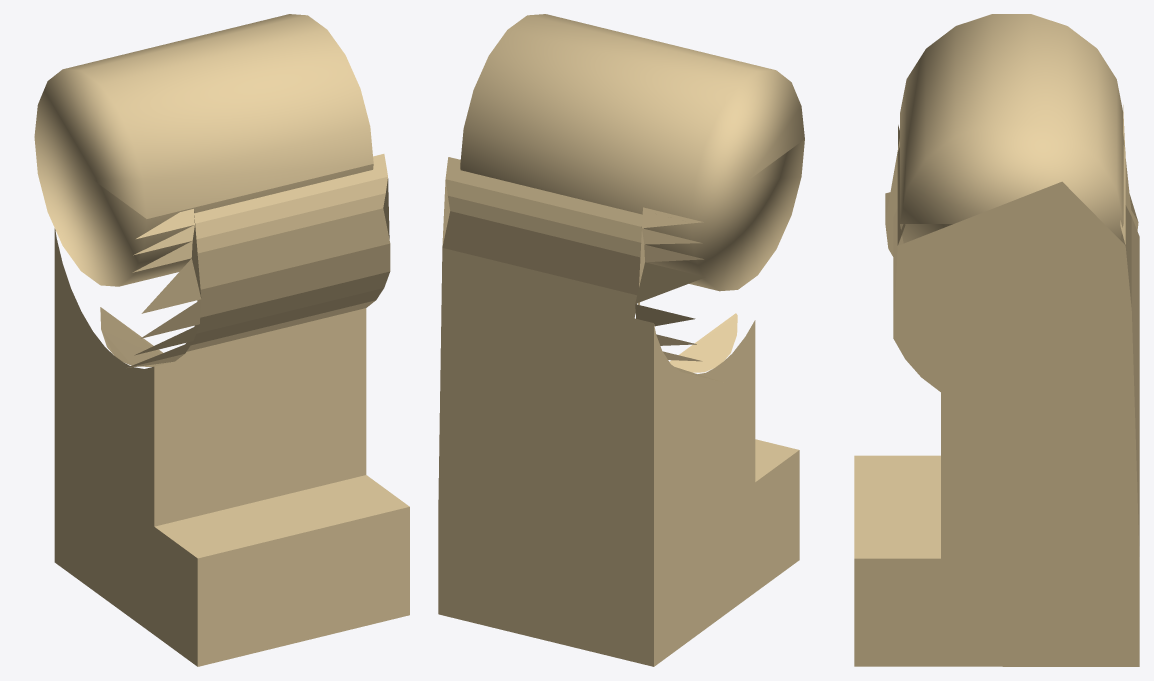
Rendered from legR.glb.
3 views of the same model, side by side, from view 1: azimuth 30°, elevation 25°; view 2: azimuth 150°, elevation 25°; view 3: azimuth 270°, elevation 25° (orthographic). The views are drawn at different scales.
Parts seen in each view (by area): view 1: quill_legR; view 2: quill_legR; view 3: quill_legR.
Part boxes in pixels (x1,y1,x2,y2): quill_legR: (34,14,409,666); quill_legR: (438,14,804,666); quill_legR: (854,14,1139,666).
Size of the model in its own units: 0.3561 by 0.7237 by 0.3488.
